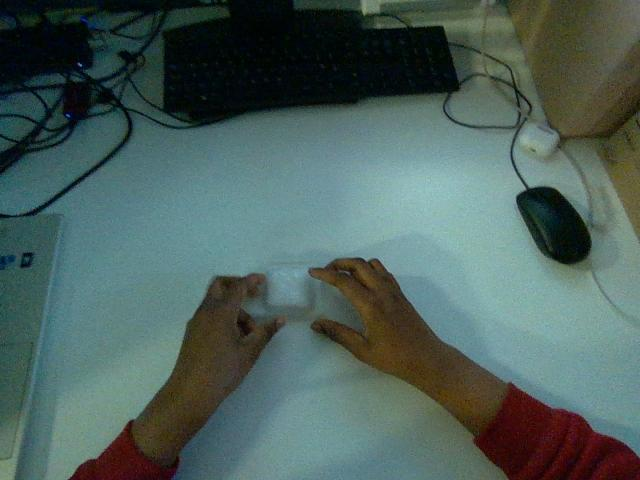gauze: (264, 265, 319, 315)
